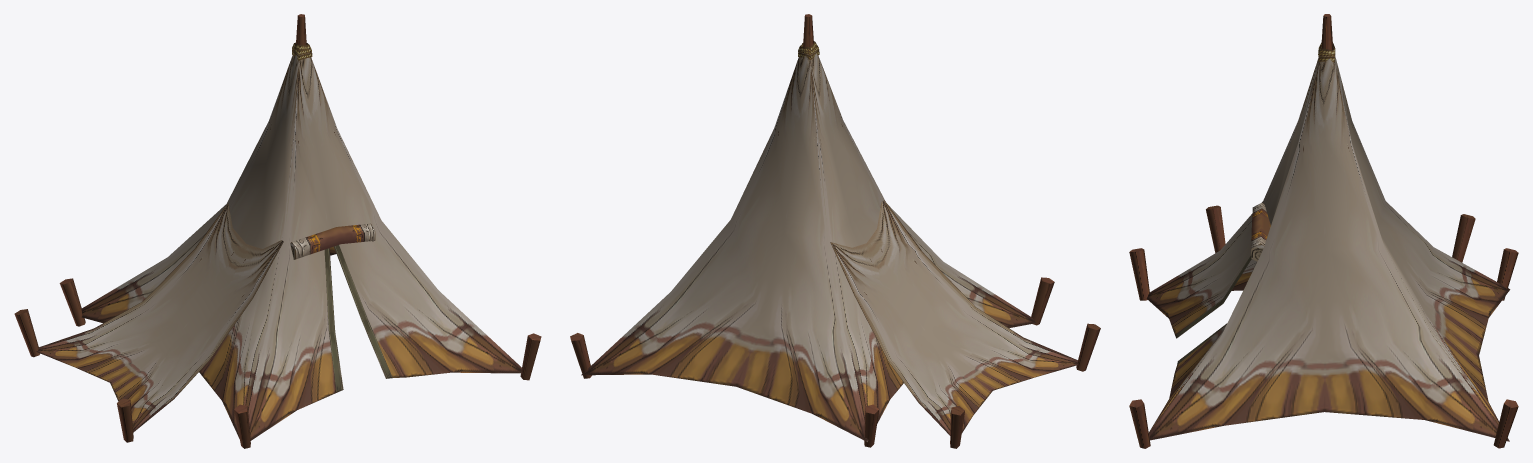
The model's file is 2_SWJ_ZhangPeng_02.FBX.
3 views of the same model, side by side, from view 1: azimuth 30°, elevation 25°; view 2: azimuth 150°, elevation 25°; view 3: azimuth 270°, elevation 25° (orthographic). The views are drawn at different scales.
Visible parts, largest first — view 1: 2_SWJ_ZhangPeng_02, 2_SWJ_ZhangPeng_03; view 2: 2_SWJ_ZhangPeng_02, 2_SWJ_ZhangPeng_03; view 3: 2_SWJ_ZhangPeng_02, 2_SWJ_ZhangPeng_03.
Boxes of the visible parts, x1=… form: 2_SWJ_ZhangPeng_02: x1=59, y1=14, x2=541, y2=448; 2_SWJ_ZhangPeng_03: x1=14, y1=203, x2=283, y2=442; 2_SWJ_ZhangPeng_02: x1=570, y1=14, x2=1054, y2=447; 2_SWJ_ZhangPeng_03: x1=830, y1=200, x2=1100, y2=448; 2_SWJ_ZhangPeng_02: x1=1129, y1=14, x2=1518, y2=448; 2_SWJ_ZhangPeng_03: x1=1206, y1=205, x2=1475, y2=262.
Size of the model in its own units: 1042 by 863 by 848.
